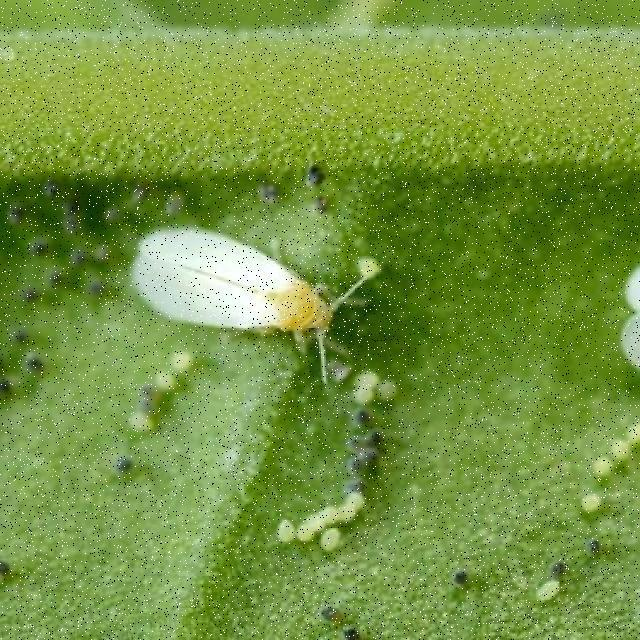Whiteflies: (93, 215, 383, 378)
